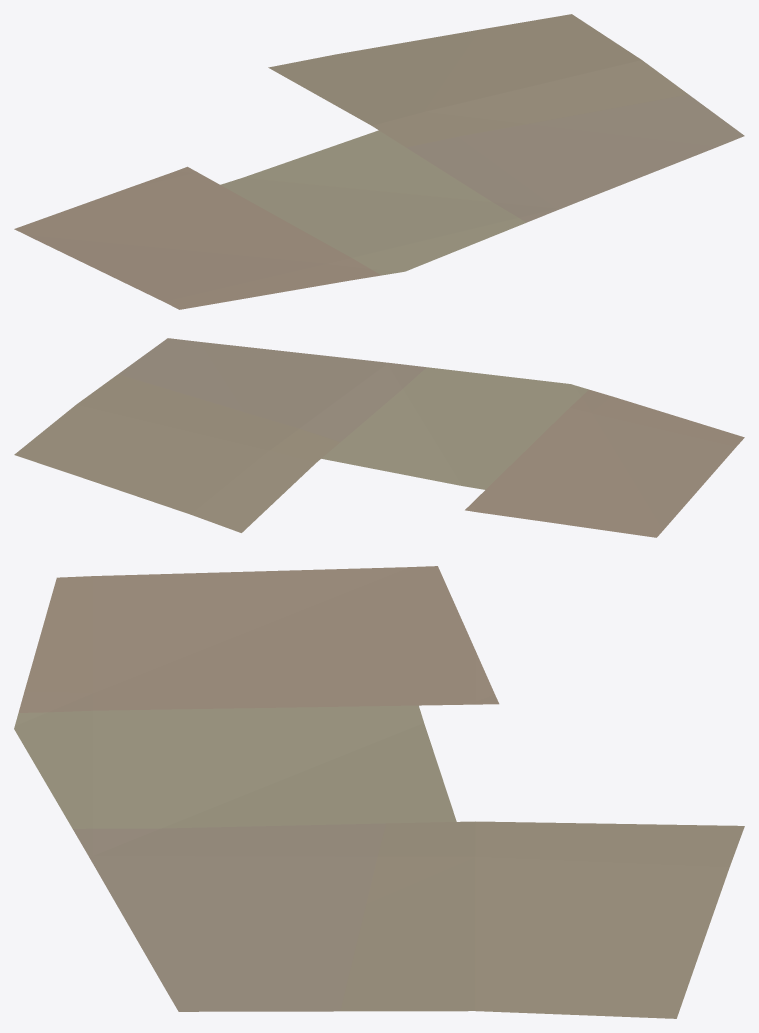
File: farm_12_11_soil.glb
3 views of the same model, one above another, from view 1: azimuth 30°, elevation 25°; view 2: azimuth 150°, elevation 25°; view 3: azimuth 270°, elevation 25° (orthographic). The views are drawn at different scales.
Visible parts, largest first — view 1: geometry_0; view 2: geometry_0; view 3: geometry_0.
Part boxes in pixels (x1=…): geometry_0: x1=14, y1=14, x2=744, y2=309; geometry_0: x1=14, y1=338, x2=744, y2=537; geometry_0: x1=14, y1=566, x2=744, y2=1018.
Size of the model in its own units: 223 by 4.24 by 153.
